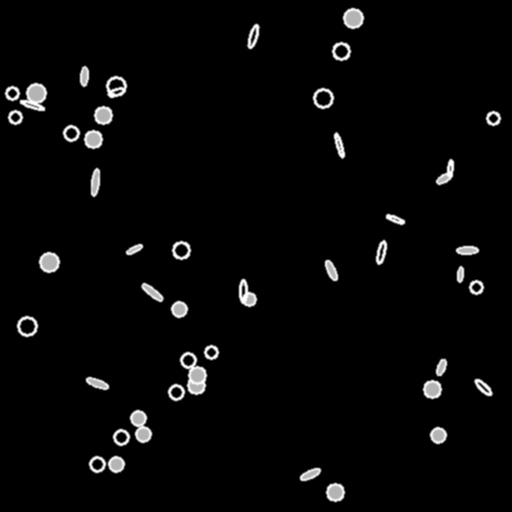pseudomonas: (140, 282, 164, 302), (473, 378, 493, 396), (333, 132, 345, 158), (299, 467, 321, 481), (324, 259, 338, 281), (86, 376, 108, 390), (375, 240, 387, 264), (20, 99, 44, 111), (247, 24, 259, 48), (90, 169, 100, 195), (435, 171, 453, 185), (385, 213, 405, 225), (435, 358, 447, 376), (125, 243, 143, 255), (107, 86, 125, 98), (457, 246, 477, 254), (80, 66, 88, 86), (240, 279, 246, 302), (446, 160, 454, 176), (457, 266, 463, 282)
synechocystis: (107, 77, 125, 95), (314, 89, 332, 107), (27, 84, 45, 102), (344, 9, 362, 27), (18, 317, 36, 335), (40, 253, 58, 271), (188, 377, 204, 393), (85, 131, 101, 147), (95, 107, 111, 123), (424, 381, 440, 397), (327, 484, 343, 500), (333, 43, 349, 59), (173, 242, 189, 258), (189, 367, 205, 383), (109, 457, 123, 471), (172, 302, 186, 316), (131, 411, 145, 425), (114, 430, 128, 444), (169, 385, 183, 399), (181, 353, 195, 367), (64, 126, 78, 140), (90, 457, 104, 471), (431, 428, 445, 442), (136, 427, 150, 441), (487, 112, 499, 124), (243, 293, 255, 305), (9, 111, 21, 123), (470, 281, 482, 293), (205, 346, 217, 358), (6, 87, 18, 99)
